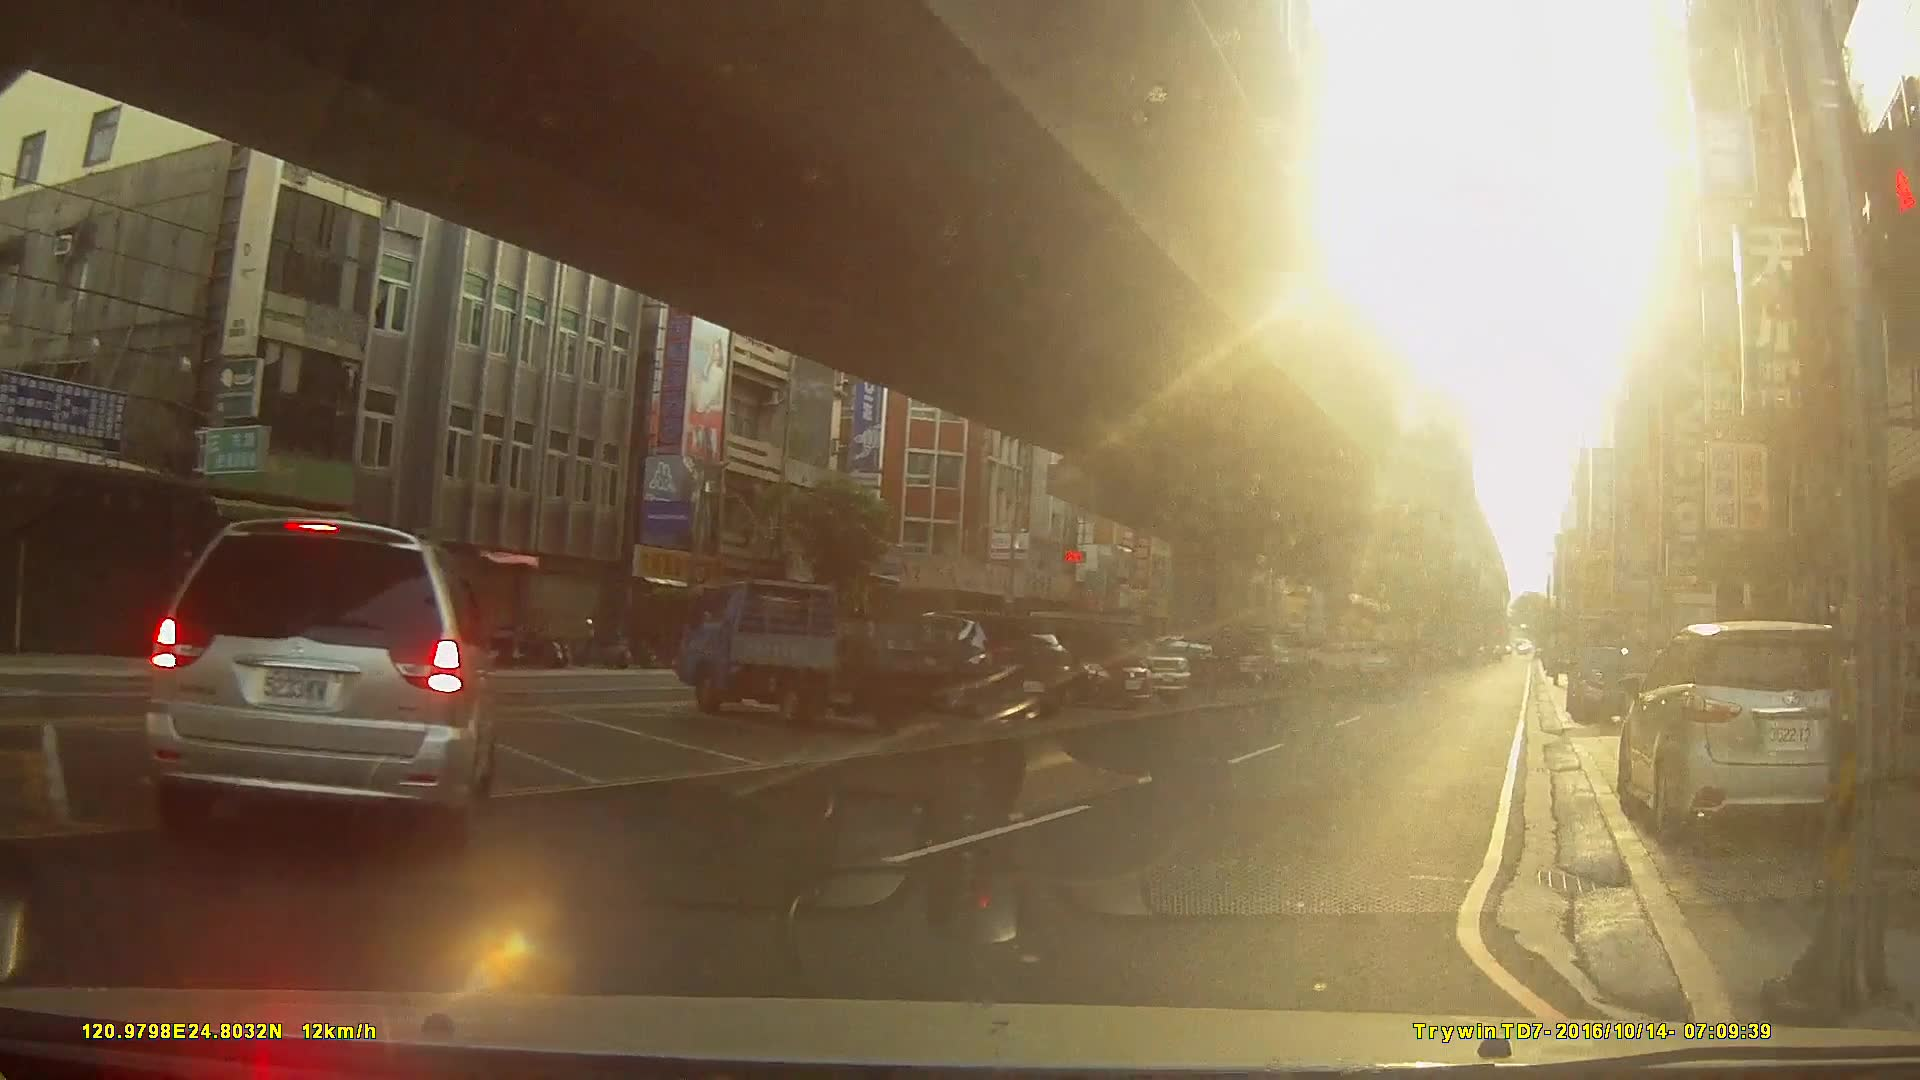vehicle: (142, 516, 497, 848), (1614, 616, 1894, 849), (673, 576, 953, 731), (885, 609, 1075, 719), (988, 618, 1156, 705), (1116, 632, 1244, 687)
